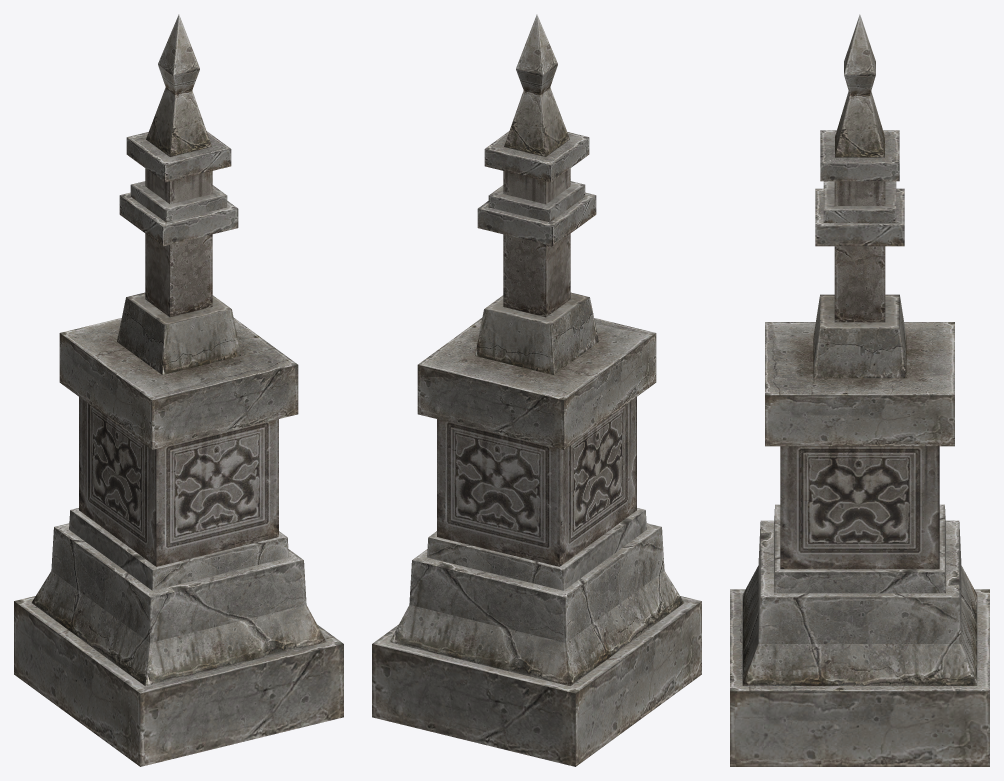
File: bg_lut_lucastle_stairdeco01_sm_phs.FBX
3 views of the same model, side by side, from view 1: azimuth 30°, elevation 25°; view 2: azimuth 150°, elevation 25°; view 3: azimuth 270°, elevation 25° (orthographic). The views are drawn at different scales.
Visible parts, largest first — view 1: bg_lut_lucastle_stairdeco01_sm_phs; view 2: bg_lut_lucastle_stairdeco01_sm_phs; view 3: bg_lut_lucastle_stairdeco01_sm_phs.
Boxes of the visible parts, x1,y1,x2,y2 form: bg_lut_lucastle_stairdeco01_sm_phs: (14, 14, 343, 766); bg_lut_lucastle_stairdeco01_sm_phs: (372, 14, 701, 766); bg_lut_lucastle_stairdeco01_sm_phs: (730, 14, 989, 766).
Bounding box in the file's own units: 93.47 × 299 × 100.
